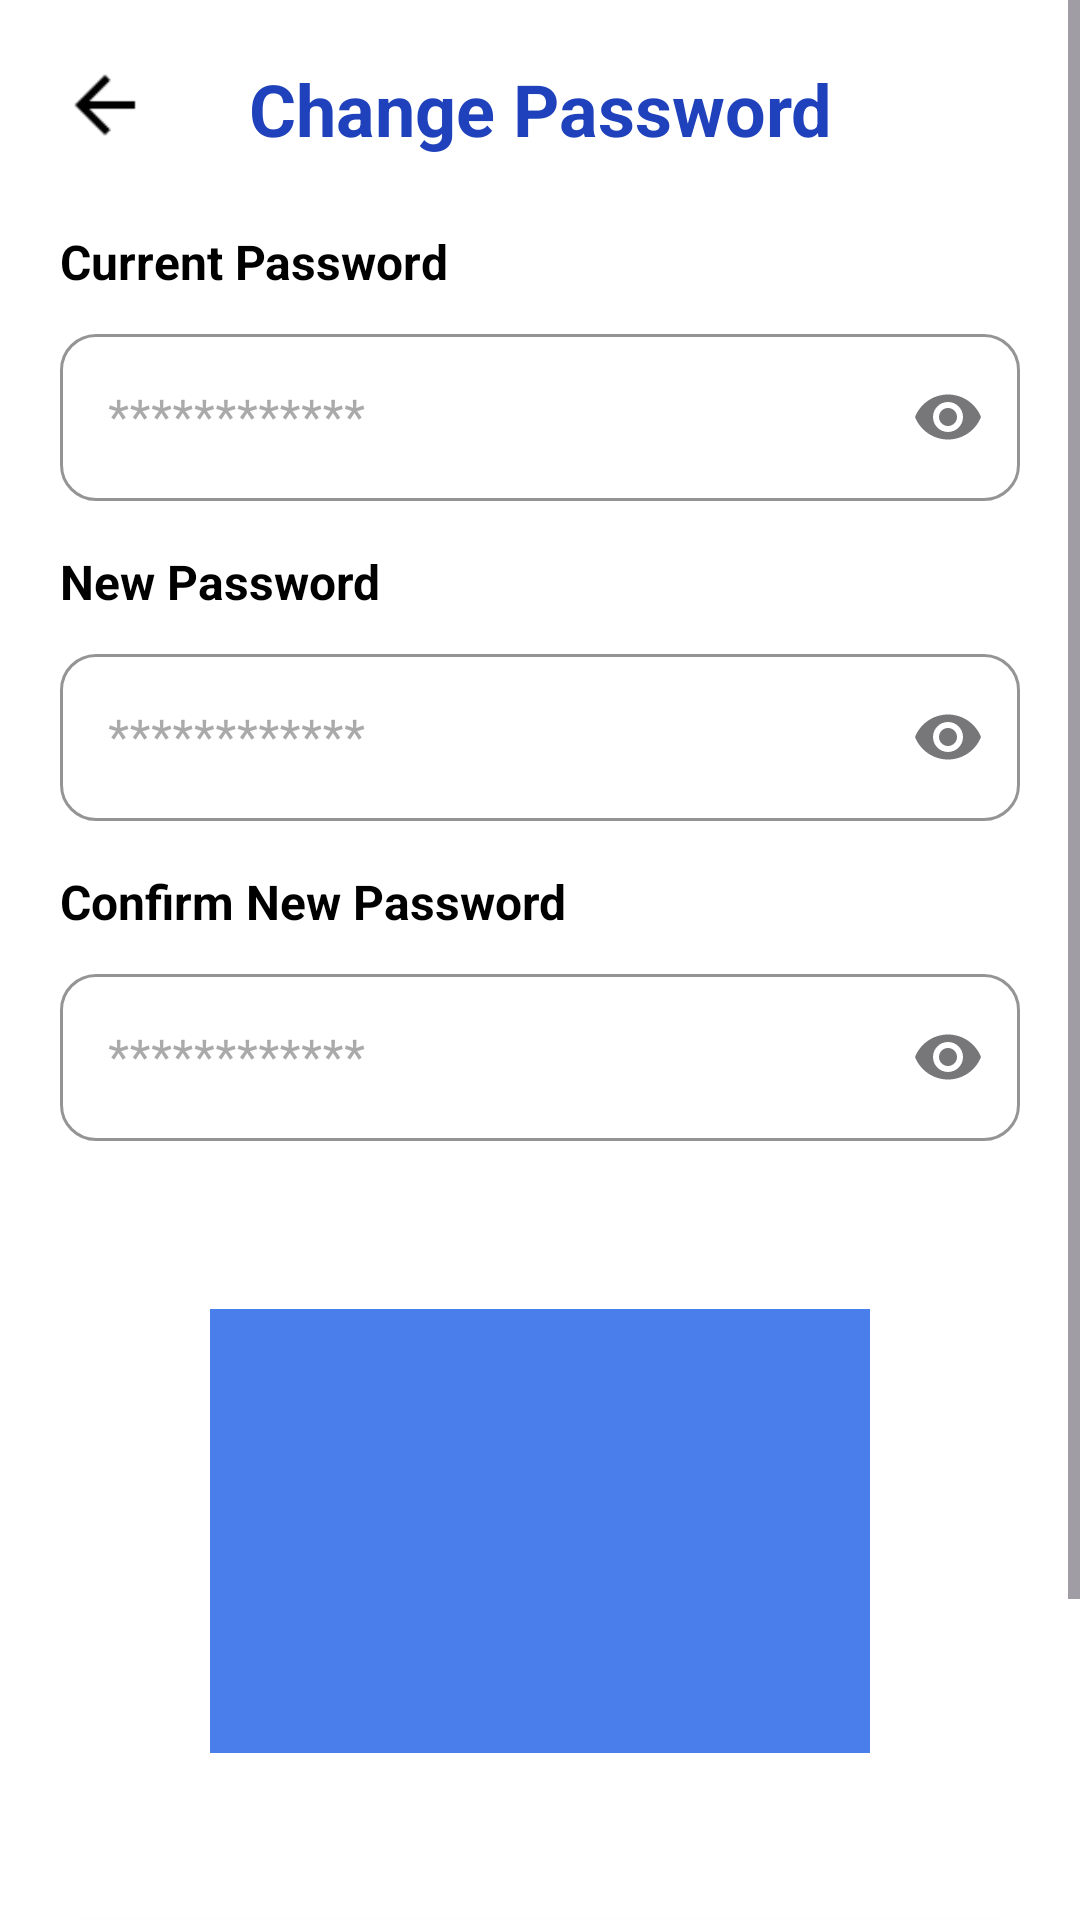

Named icons in this screenshot (1080*1920) and their centers, [x,y]:
back arrow: [105,105]
